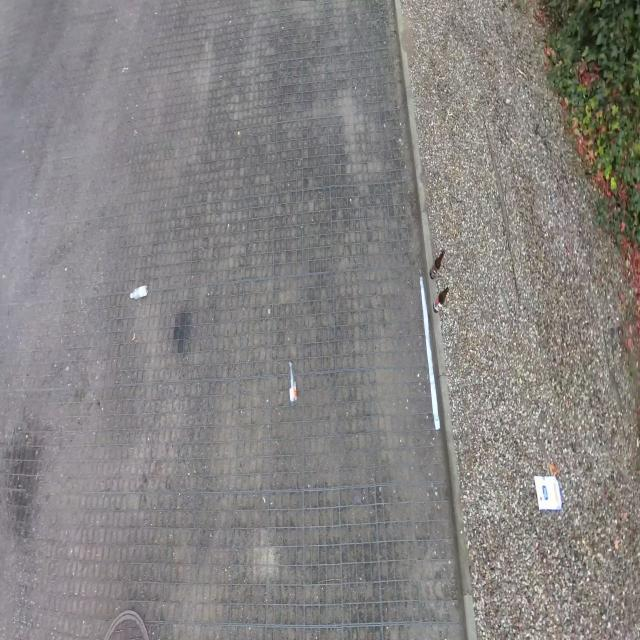rubbish: (420, 277, 440, 431), (534, 474, 563, 511), (433, 287, 449, 313), (289, 361, 298, 407), (430, 252, 444, 280), (130, 285, 149, 300)
